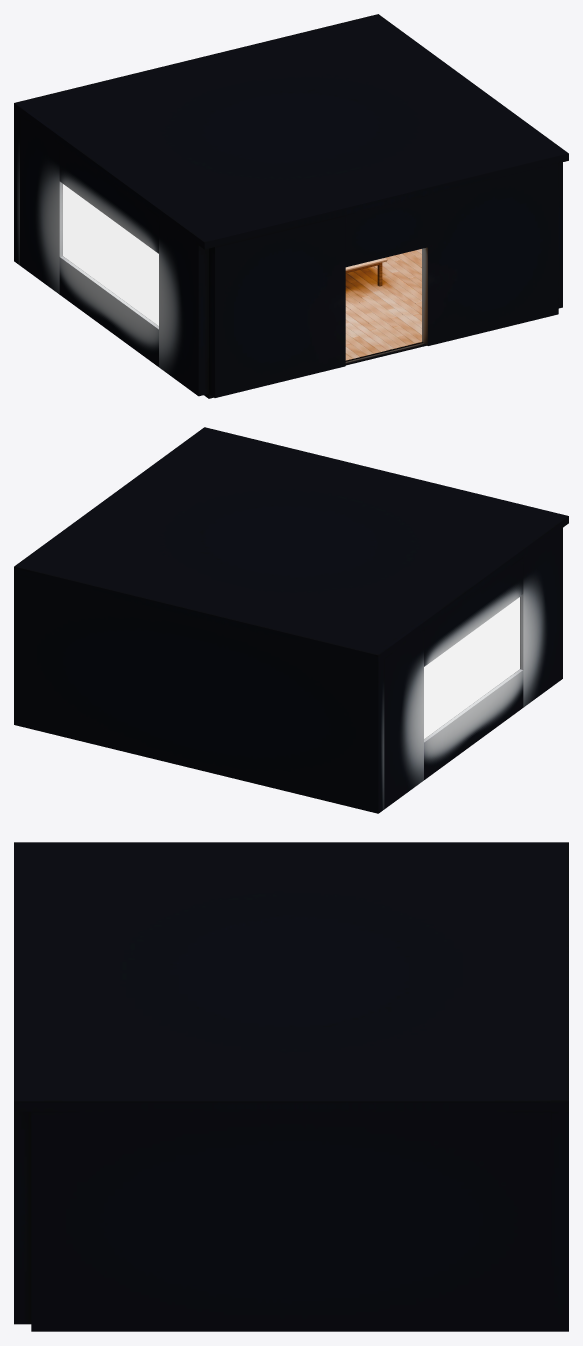
The model's file is room_rails.glb.
3 renders of one model, top to bottom at view 1: azimuth 30°, elevation 25°; view 2: azimuth 150°, elevation 25°; view 3: azimuth 270°, elevation 25°, orthographic. The views are drawn at different scales.
Visible parts, largest first — view 1: baked_ceiling, baked_walls, baked_floor, window_glass; view 2: baked_walls, baked_ceiling, window_glass; view 3: baked_ceiling, baked_walls.
Boxes of the visible parts, x1,y1,x2,y2 form: baked_ceiling: (14,14,568,249); baked_walls: (14,110,562,397); baked_floor: (204,249,426,398); window_glass: (63,184,158,325); baked_walls: (14,528,562,813); baked_ceiling: (14,427,568,662); window_glass: (424,597,519,738); baked_ceiling: (14,842,568,1111); baked_walls: (14,1111,568,1331).
Size of the model in its own units: 10.6 by 4.54 by 9.6.
Materials: 6 (4 with a texture image).
